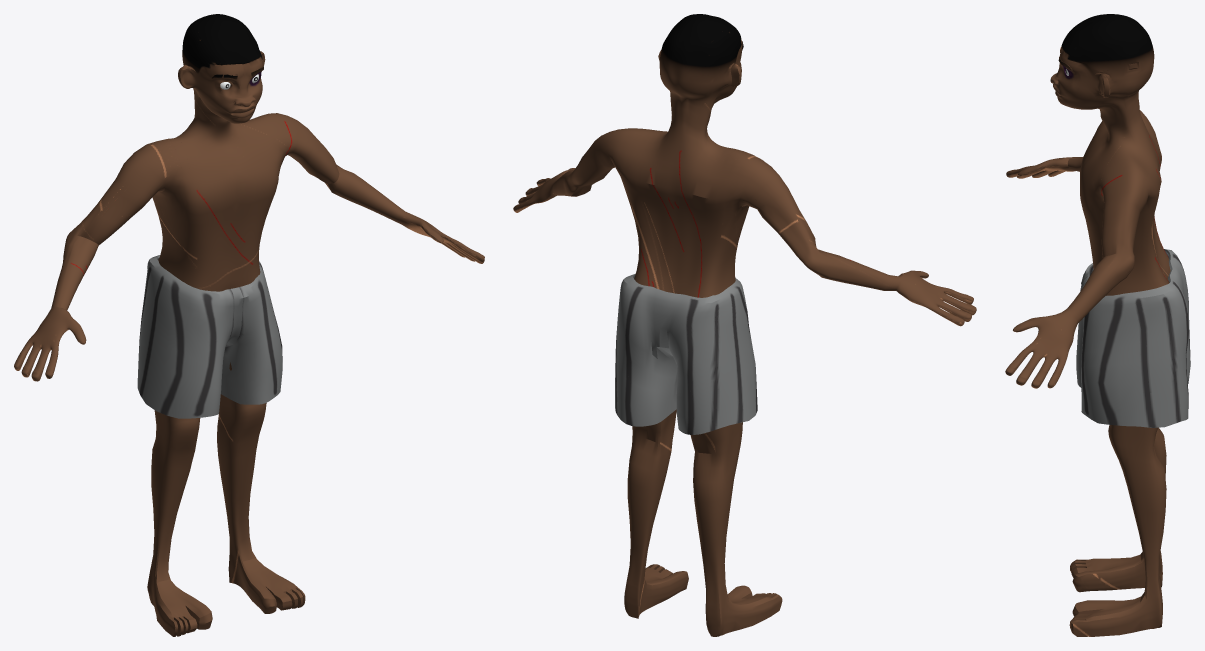
Rendered from arthurreal.fbx.
3 views of the same model, side by side, from view 1: azimuth 30°, elevation 25°; view 2: azimuth 150°, elevation 25°; view 3: azimuth 270°, elevation 25° (orthographic).
Visible parts, largest first — view 1: corpo, shorts; view 2: corpo, shorts; view 3: corpo, shorts.
Boxes of the visible parts, <box> form: corpo: <box>14,14,484,636</box>; shorts: <box>137,255,282,418</box>; corpo: <box>513,14,976,636</box>; shorts: <box>615,274,757,434</box>; corpo: <box>1005,14,1170,636</box>; shorts: <box>1076,249,1190,427</box>.
Size of the model in its own units: 1080 by 1346 by 384.
3 materials, 3 textured.
